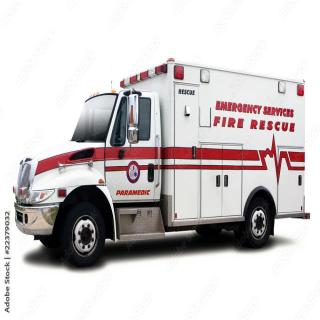Ambulance: (14, 31, 319, 296)
